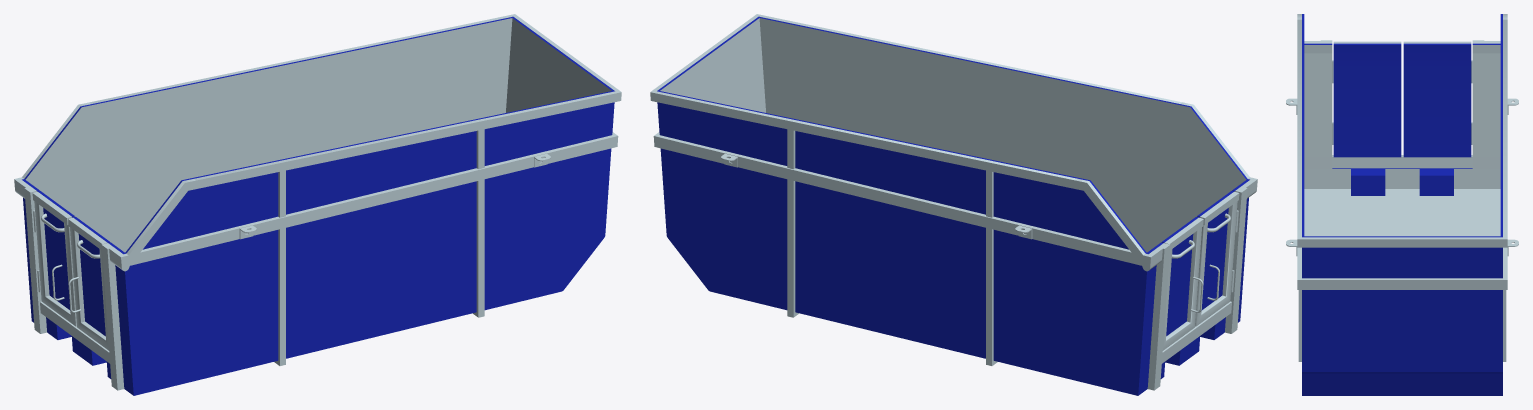
The model's file is uploads_files_1917923_SKIP+BIN.FBX.
3 views of the same model, side by side, from view 1: azimuth 30°, elevation 25°; view 2: azimuth 150°, elevation 25°; view 3: azimuth 270°, elevation 25° (orthographic).
Parts seen in each view (by area): view 1: SKB_BODY_EXTERNAL, SKB_BODY_INTERNAL, SKB_LATERAL_FRAMES, SKB_HORIZONTAL_TRANSON, SKB_DOOR_FRAMES, SKB_DOOR_PANEL, SKB_POST_DOOR, SKB_SUPPORT_FRAMES, SKB_DIAGONAL_TRANSON, SKB_DOOR_BASE_BAR; view 2: SKB_BODY_EXTERNAL, SKB_BODY_INTERNAL, SKB_LATERAL_FRAMES, SKB_HORIZONTAL_TRANSON, SKB_DOOR_FRAMES, SKB_DOOR_PANEL, SKB_POST_DOOR, SKB_SUPPORT_FRAMES, SKB_DIAGONAL_TRANSON, SKB_DOOR_BASE_BAR; view 3: SKB_BODY_EXTERNAL, SKB_BODY_INTERNAL, SKB_DOOR_PANEL, SKB_HORIZONTAL_TRANSON, SKB_LATERAL_FRAMES, SKB_DOOR_BASE_BAR, SKB_SUPPORT_FRAMES, SKB_FIXING_SUPPORT, SKB_DOOR_FRAMES.
Boxes of the visible parts, x1=… form: SKB_BODY_EXTERNAL: x1=22, y1=16, x2=614, y2=395; SKB_BODY_INTERNAL: x1=25, y1=18, x2=611, y2=252; SKB_LATERAL_FRAMES: x1=14, y1=132, x2=618, y2=271; SKB_HORIZONTAL_TRANSON: x1=90, y1=14, x2=621, y2=190; SKB_DOOR_FRAMES: x1=32, y1=191, x2=109, y2=350; SKB_DOOR_PANEL: x1=38, y1=191, x2=110, y2=336; SKB_POST_DOOR: x1=24, y1=186, x2=124, y2=390; SKB_SUPPORT_FRAMES: x1=274, y1=129, x2=484, y2=365; SKB_DIAGONAL_TRANSON: x1=22, y1=102, x2=195, y2=255; SKB_DOOR_BASE_BAR: x1=40, y1=301, x2=109, y2=363; SKB_BODY_EXTERNAL: x1=657, y1=16, x2=1249, y2=395; SKB_BODY_INTERNAL: x1=660, y1=18, x2=1246, y2=252; SKB_LATERAL_FRAMES: x1=653, y1=132, x2=1257, y2=271; SKB_HORIZONTAL_TRANSON: x1=650, y1=14, x2=1181, y2=190; SKB_DOOR_FRAMES: x1=1162, y1=191, x2=1239, y2=350; SKB_DOOR_PANEL: x1=1161, y1=191, x2=1233, y2=336; SKB_POST_DOOR: x1=1147, y1=186, x2=1247, y2=390; SKB_SUPPORT_FRAMES: x1=787, y1=129, x2=997, y2=365; SKB_DIAGONAL_TRANSON: x1=1076, y1=102, x2=1249, y2=255; SKB_DOOR_BASE_BAR: x1=1162, y1=301, x2=1231, y2=363; SKB_BODY_EXTERNAL: x1=1302, y1=14, x2=1502, y2=395; SKB_BODY_INTERNAL: x1=1304, y1=45, x2=1500, y2=236; SKB_DOOR_PANEL: x1=1333, y1=43, x2=1471, y2=157; SKB_HORIZONTAL_TRANSON: x1=1297, y1=19, x2=1507, y2=247; SKB_LATERAL_FRAMES: x1=1297, y1=41, x2=1507, y2=289; SKB_DOOR_BASE_BAR: x1=1332, y1=155, x2=1472, y2=168; SKB_SUPPORT_FRAMES: x1=1298, y1=290, x2=1506, y2=361; SKB_FIXING_SUPPORT: x1=1286, y1=98, x2=1518, y2=256; SKB_DOOR_FRAMES: x1=1333, y1=41, x2=1471, y2=43.
Size of the model in its own units: 618 by 241 by 249.
